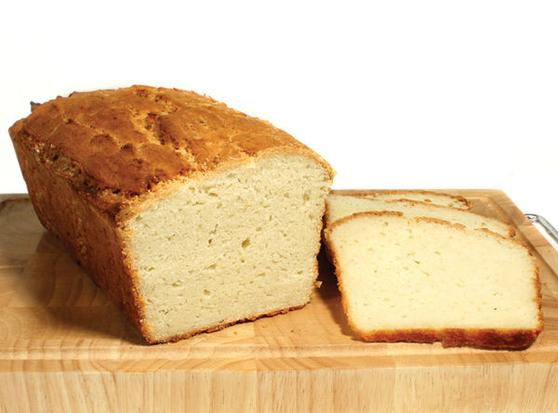white_bread: (6, 81, 326, 341)
